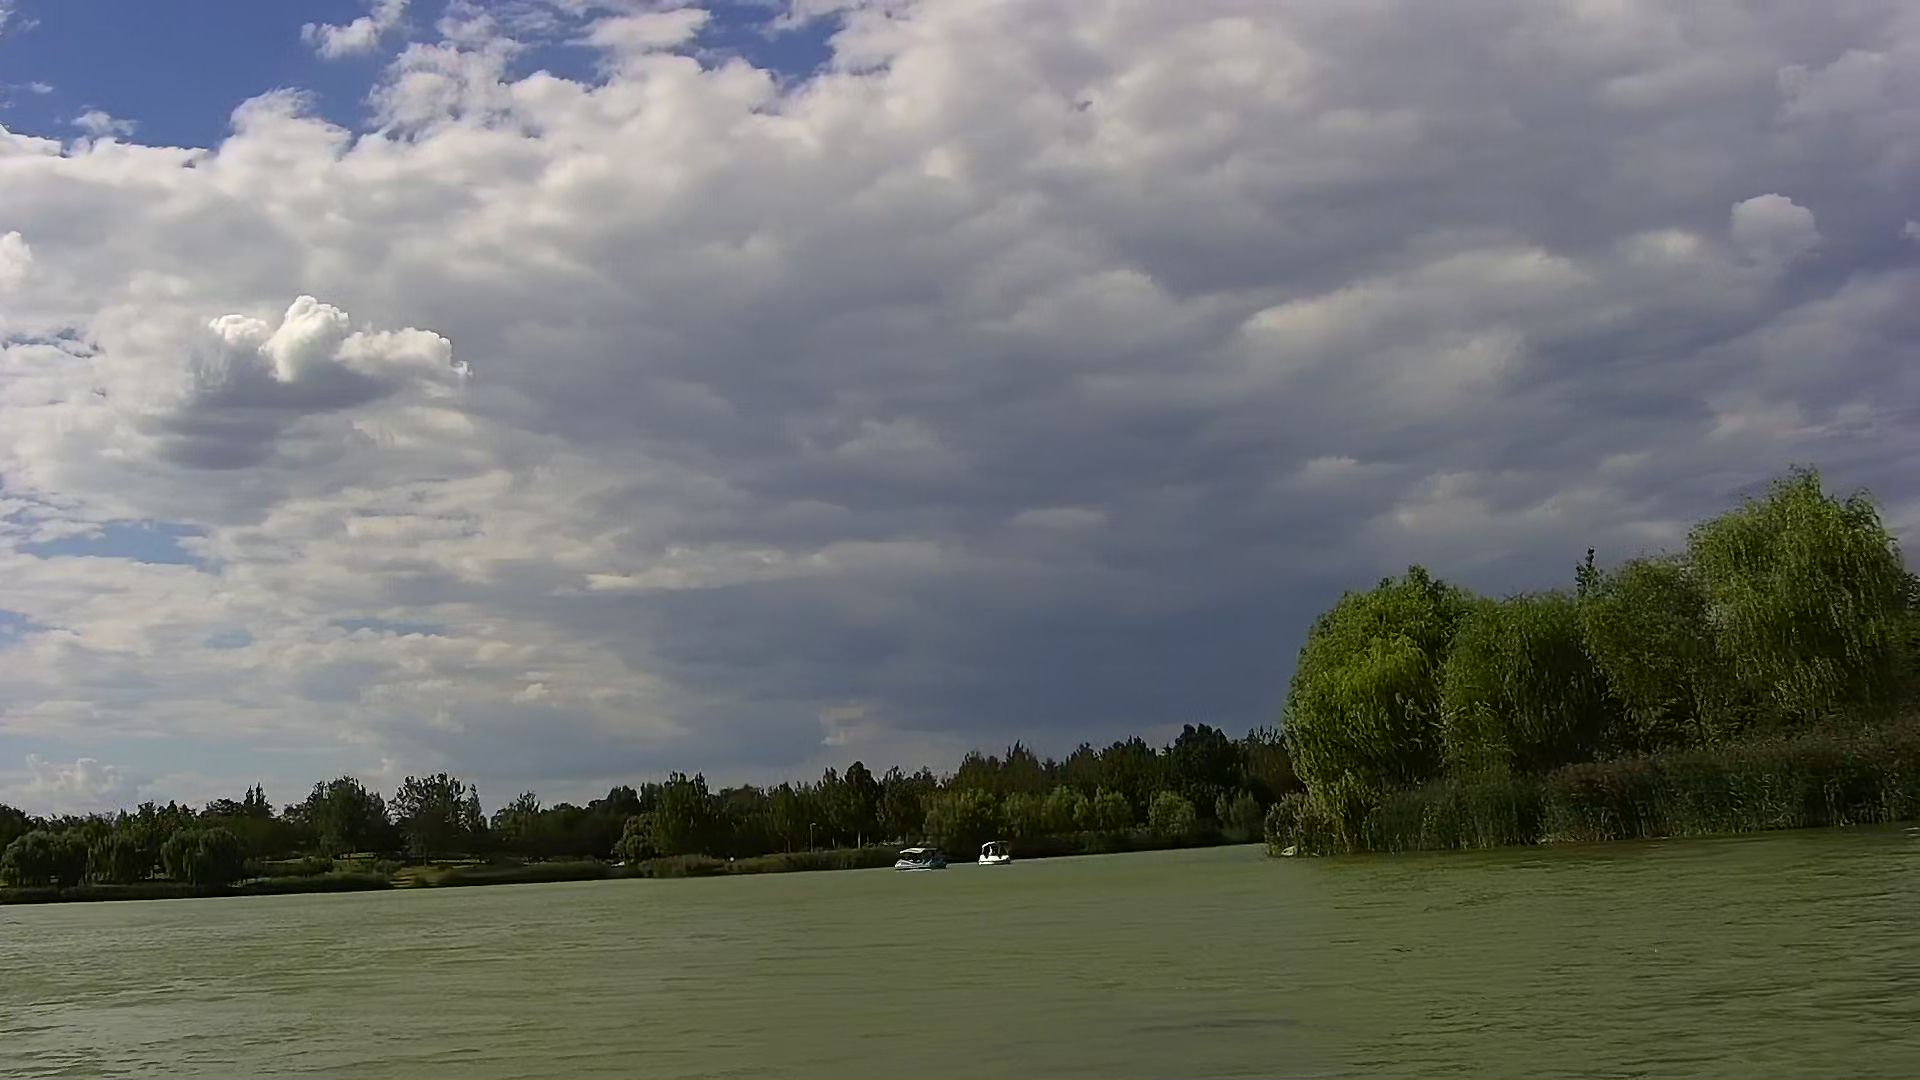boat: (890, 843, 949, 873), (973, 841, 1018, 865)
rock: (1280, 841, 1302, 860)
